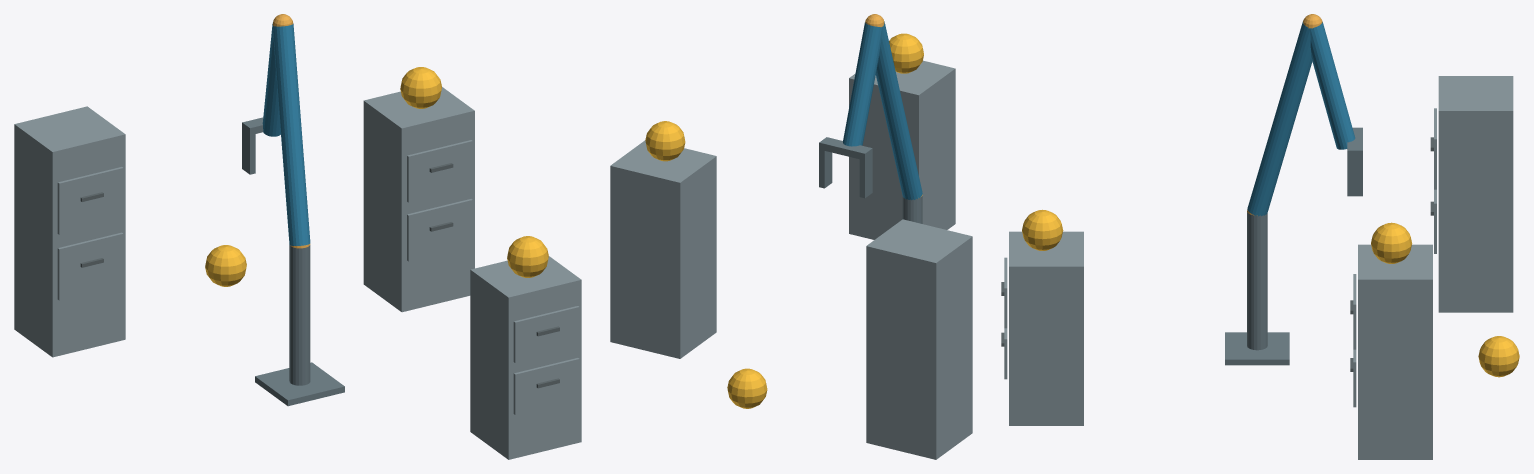
3 views of the same model, side by side, from view 1: azimuth 30°, elevation 25°; view 2: azimuth 150°, elevation 25°; view 3: azimuth 270°, elevation 25° (orthographic). The views are drawn at different scales.
Visible parts, largest first — view 1: cabinet_3 body, cabinet_2 body, cabinet_1 body, moving link 1, cabinet_3 drawer front, cabinet_3 drawer front.001, cabinet_2 drawer front, cabinet_2 drawer front.001, fixed post, cabinet_1 drawer front, cabinet_1 drawer front.001, pedestal (+4 smaller); view 2: cabinet_3 body, cabinet_2 body, cabinet_1 body, moving link 1, moving link 2, ball ball_3, released ball_2, released ball_1, gripper bridge, gripper finger -1, gripper finger 1, fixed post; view 3: cabinet_3 body, cabinet_2 body, cabinet_1 body, moving link 1, fixed post, moving link 2, pedestal, ball ball_3, released ball_2, released ball_1, gripper finger 1.
Part boxes in pixels (<box>): cabinet_3 body: <box>14,106,125,357</box>; cabinet_2 body: <box>363,87,474,312</box>; cabinet_1 body: <box>470,256,581,459</box>; moving link 1: <box>273,24,310,245</box>; cabinet_3 drawer front: <box>57,232,123,300</box>; cabinet_3 drawer front.001: <box>57,167,123,234</box>; cabinet_2 drawer front: <box>407,199,472,261</box>; cabinet_2 drawer front.001: <box>407,140,472,202</box>; fixed post: <box>289,245,310,385</box>; cabinet_1 drawer front: <box>513,358,579,414</box>; cabinet_1 drawer front.001: <box>513,306,579,362</box>; pedestal: <box>255,362,344,406</box>; cabinet_3 body: <box>866,219,972,459</box>; cabinet_2 body: <box>610,140,716,358</box>; cabinet_1 body: <box>849,60,955,239</box>; moving link 1: <box>875,21,922,200</box>; moving link 2: <box>843,22,882,146</box>; ball ball_3: <box>727,368,767,408</box>; released ball_2: <box>645,121,685,161</box>; released ball_1: <box>889,33,923,73</box>; gripper bridge: <box>819,137,872,160</box>; gripper finger -1: <box>859,155,872,198</box>; gripper finger 1: <box>819,149,832,188</box>; fixed post: <box>902,196,922,223</box>; cabinet_3 body: <box>1438,76,1513,312</box>; cabinet_2 body: <box>1358,244,1432,459</box>; cabinet_1 body: <box>1009,231,1083,425</box>; moving link 1: <box>1247,22,1312,216</box>; fixed post: <box>1247,212,1267,350</box>; moving link 2: <box>1310,22,1355,149</box>; pedestal: <box>1225,332,1289,365</box>; ball ball_3: <box>1478,336,1519,377</box>; released ball_2: <box>1371,222,1412,263</box>; released ball_1: <box>1022,209,1063,250</box>; gripper finger 1: <box>1347,157,1362,196</box>.
Bounding box in the file's own units: 1.67 × 1.46 × 2.01.
